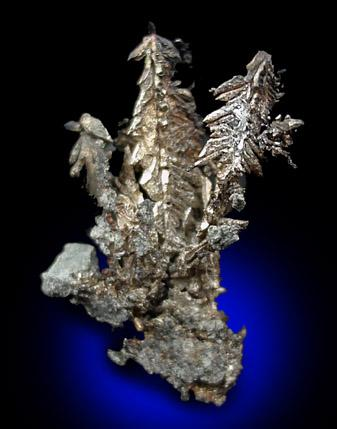silver: (40, 22, 305, 408)
